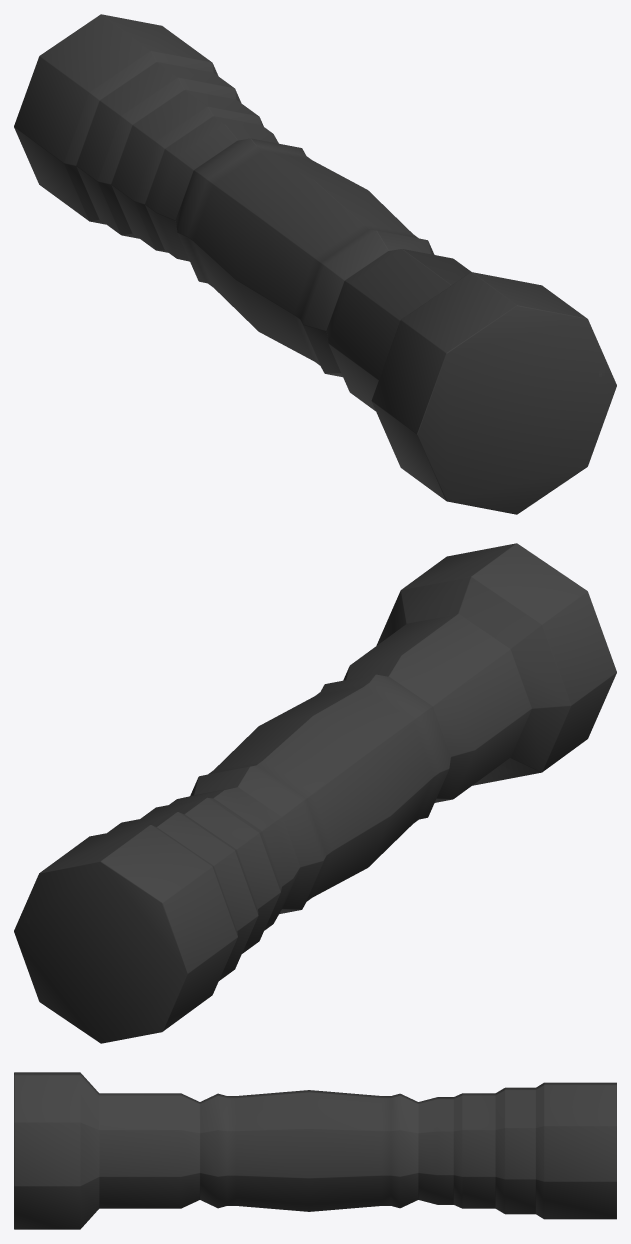
File: aztec_pillar.fbx
The picture shows the model from 3 angles, top to bottom: view 1: azimuth 30°, elevation 25°; view 2: azimuth 150°, elevation 25°; view 3: azimuth 270°, elevation 25°; orthographic projection. The views are drawn at different scales.
Visible parts, largest first — view 1: Cylinder01_None; view 2: Cylinder01_None; view 3: Cylinder01_None.
Part boxes in pixels (x1=…): Cylinder01_None: x1=14, y1=14, x2=616, y2=514; Cylinder01_None: x1=14, y1=543, x2=616, y2=1043; Cylinder01_None: x1=14, y1=1072, x2=616, y2=1229.
Size of the model in its own units: 65.27 by 65.27 by 236.
1 material, 1 textured.
